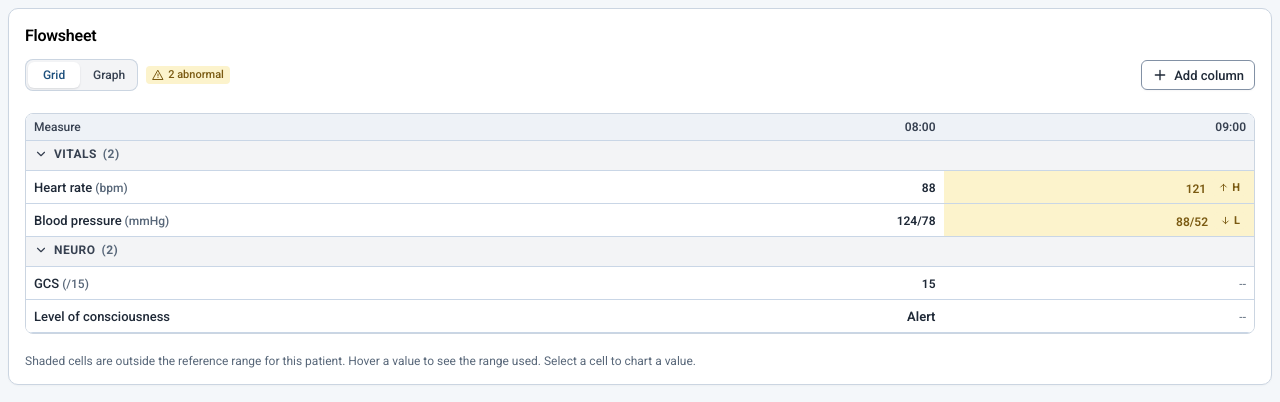
Test: Flowsheet › collapses a group and shows its abnormal count
Click the button "Vitals (2)": (77, 154) x1=34 y1=147 x2=120 y2=161
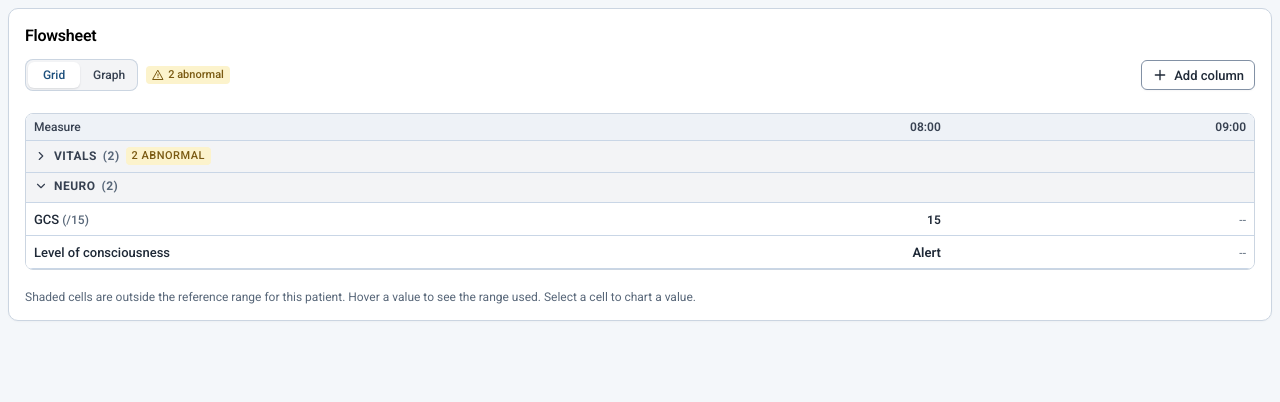
Result: the button "Vitals (2) 2 abnormal" is collapsed at x1=34 y1=147 x2=211 y2=165
Result: the text "2 abnormal" is shown at x1=126 y1=147 x2=211 y2=165
Result: the column heading "Heart rate" is gone
